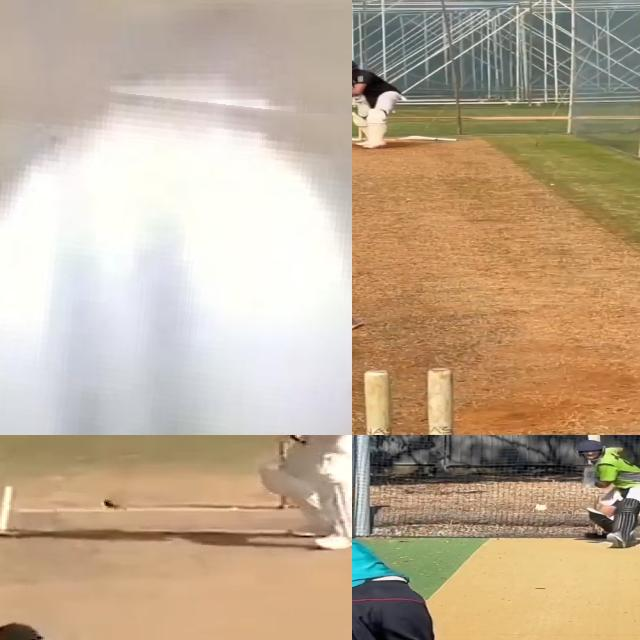Cricket ball: (0, 75, 352, 435), (352, 367, 456, 435), (101, 495, 128, 511), (534, 502, 550, 512)
